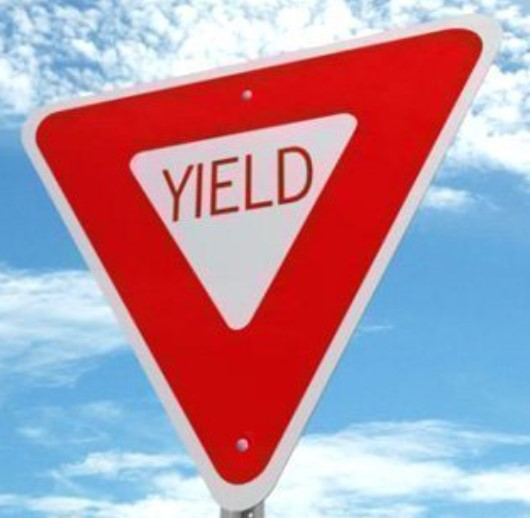Yeild: (17, 11, 506, 518)
